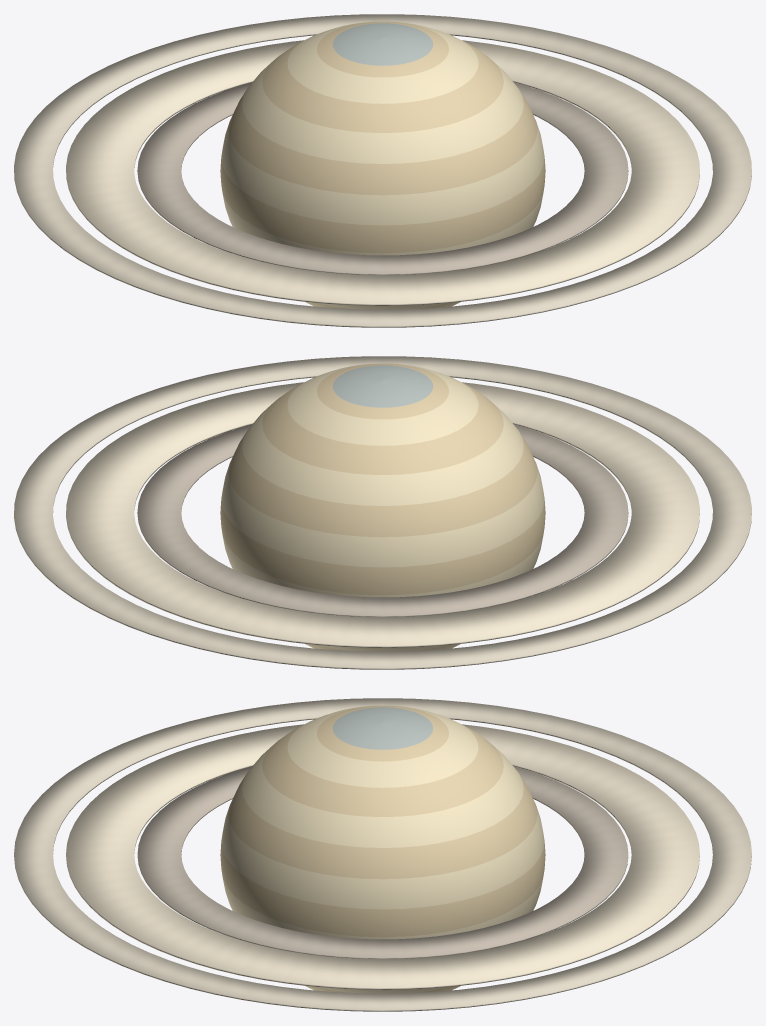
File: planet-saturn.glb
The picture shows the model from 3 angles, top to bottom: view 1: azimuth 30°, elevation 25°; view 2: azimuth 150°, elevation 25°; view 3: azimuth 270°, elevation 25°; orthographic projection.
Parts seen in each view (by area): view 1: Saturn_Globe, Rings_Main_B, Rings_Outer_A, Rings_Inner_C; view 2: Saturn_Globe, Rings_Main_B, Rings_Outer_A, Rings_Inner_C; view 3: Saturn_Globe, Rings_Main_B, Rings_Outer_A, Rings_Inner_C.
Part boxes in pixels (x1,y1,x2,y2): Saturn_Globe: [220, 21, 545, 309]; Rings_Main_B: [66, 40, 699, 305]; Rings_Outer_A: [14, 14, 751, 327]; Rings_Inner_C: [137, 82, 628, 274]; Saturn_Globe: [220, 363, 545, 651]; Rings_Main_B: [66, 382, 699, 647]; Rings_Outer_A: [14, 356, 751, 669]; Rings_Inner_C: [137, 424, 628, 616]; Saturn_Globe: [220, 705, 545, 993]; Rings_Main_B: [66, 724, 699, 989]; Rings_Outer_A: [14, 698, 751, 1011]; Rings_Inner_C: [137, 766, 628, 958].
Bounding box in the file's own units: 4.54 × 1.8 × 4.54.
